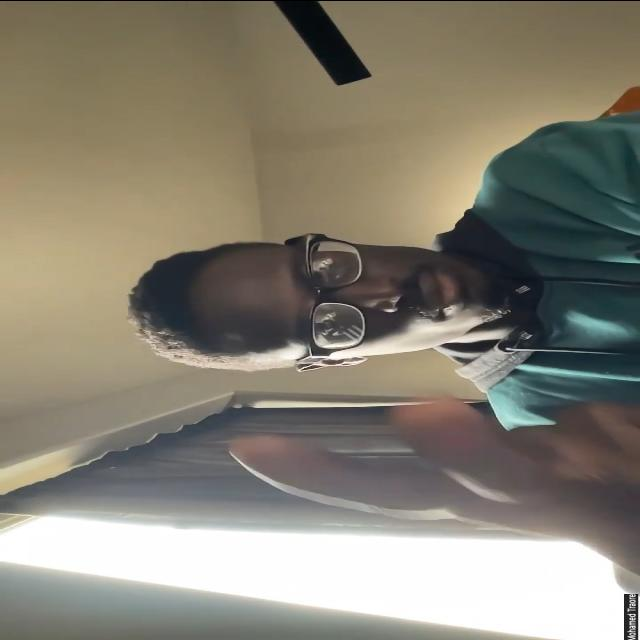Scissors: (234, 393, 640, 563)
